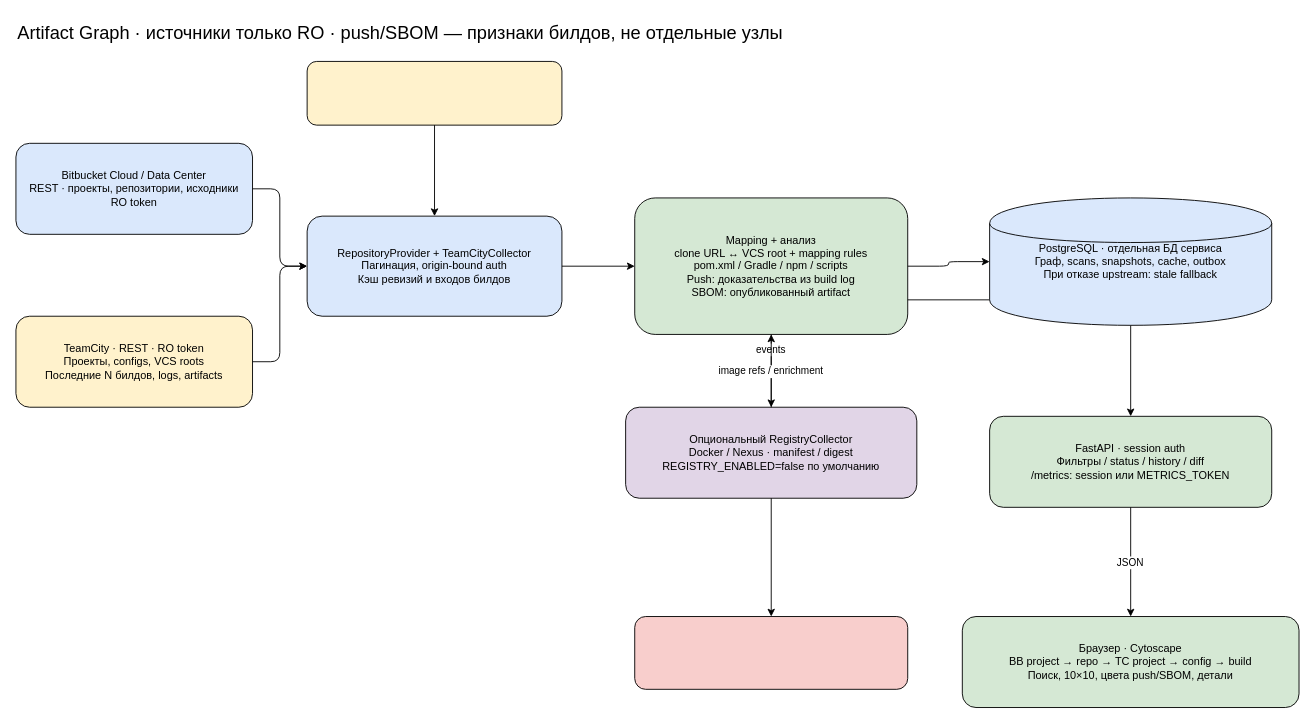
This 1315x723 diagram has some shape labels left out. The box of each missing label's shape, as (x1, y1, x2, y2) in pixels:
Координатор refresh + lock Startup / daily 03:00 MSK / manual + CSRF: (306, 61, 562, 125)
Опциональные webhook alerts Outbox + повторы доставки: (634, 616, 908, 689)
